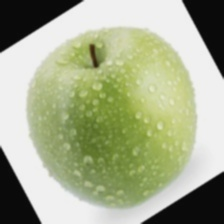apple: (30, 29, 170, 192)
